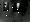person: (15, 5, 22, 17), (4, 4, 10, 15)
